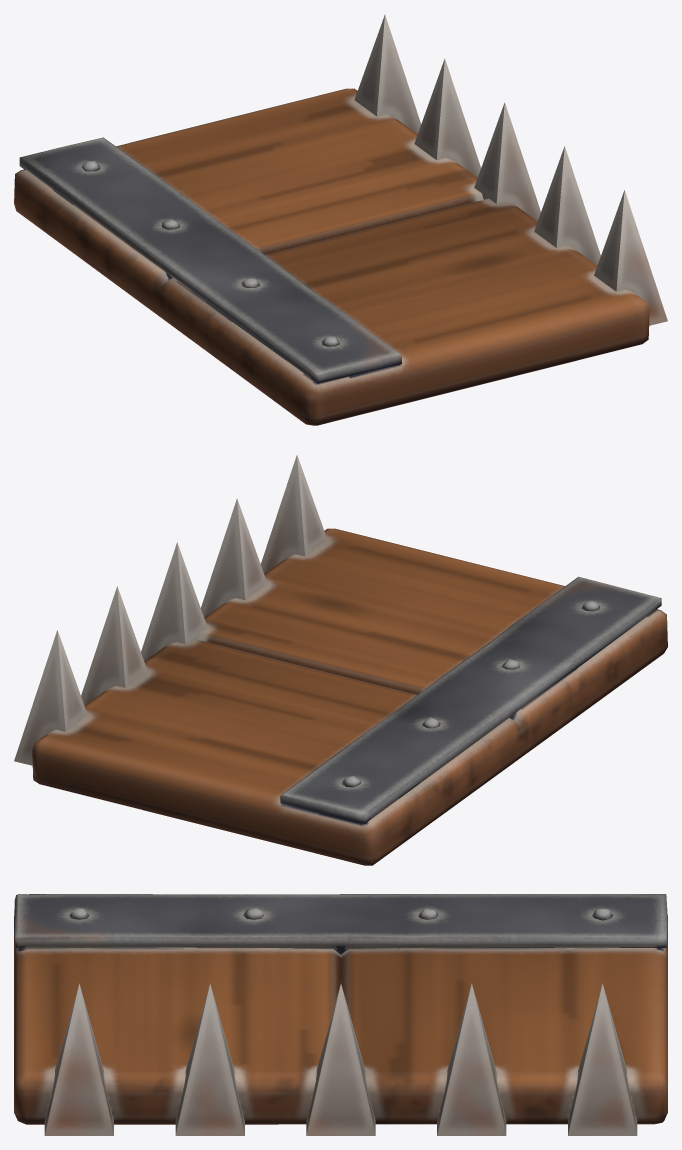
The model's file is snap_trap_jaw.glb.
The picture shows the model from 3 angles, top to bottom: view 1: azimuth 30°, elevation 25°; view 2: azimuth 150°, elevation 25°; view 3: azimuth 270°, elevation 25°; orthographic projection. The views are drawn at different scales.
Visible parts, largest first — view 1: snap_trap_jaw; view 2: snap_trap_jaw; view 3: snap_trap_jaw.
Part boxes in pixels (x1,y1,x2,y2): snap_trap_jaw: (14, 15, 667, 425); snap_trap_jaw: (14, 455, 667, 865); snap_trap_jaw: (14, 894, 667, 1135).
Size of the model in its own units: 0.4318 by 0.151 by 0.6.
Materials: 1 (1 with a texture image).
